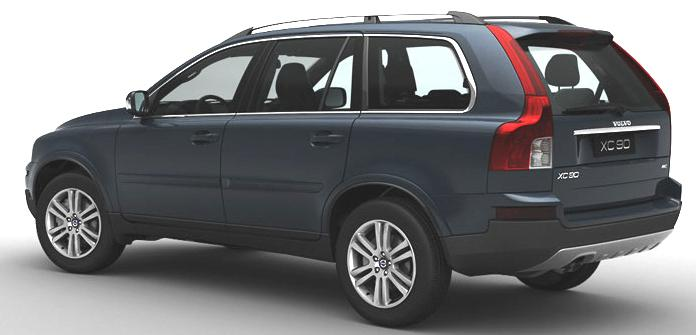volvo: (606, 115, 641, 134)
